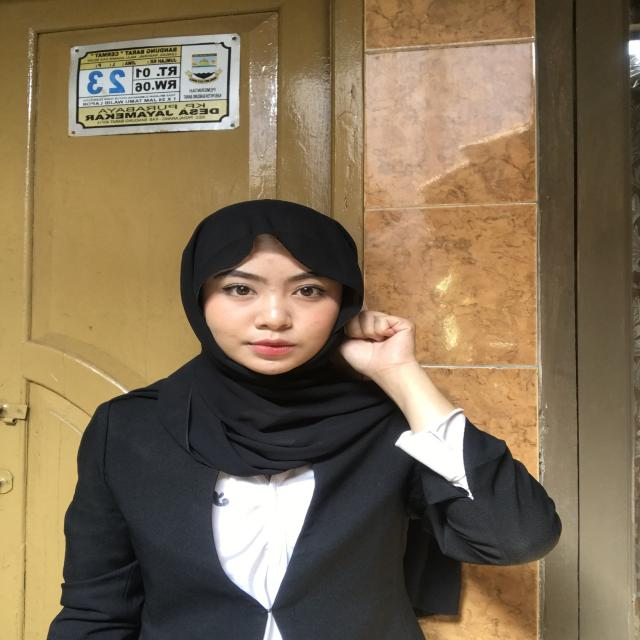ibu: (317, 300, 450, 414)
